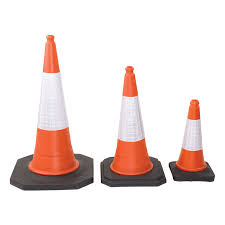cones: (8, 35, 95, 189), (101, 68, 167, 187), (170, 101, 216, 182)
